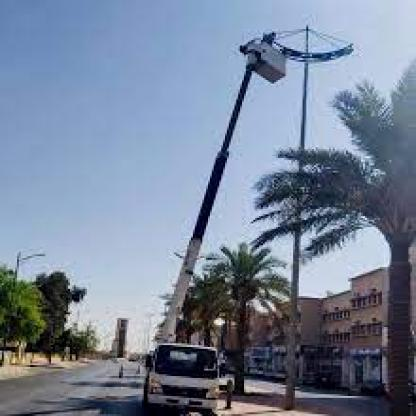light_pole: (2, 251, 48, 364)
